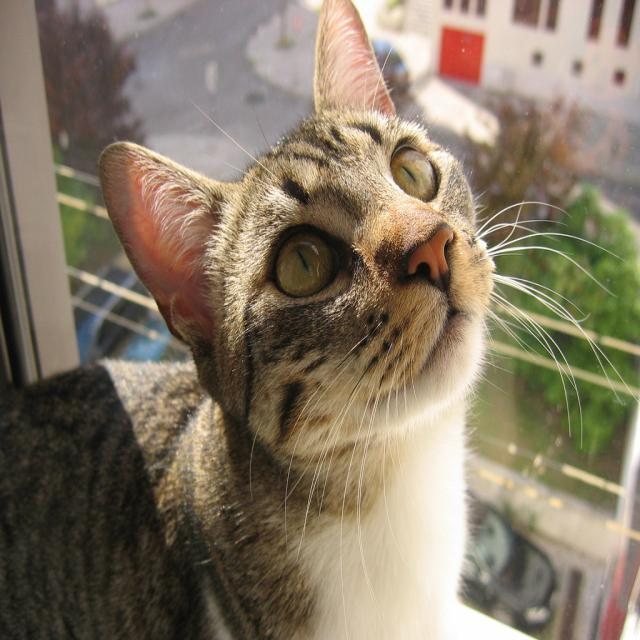cat: (1, 1, 637, 639)
